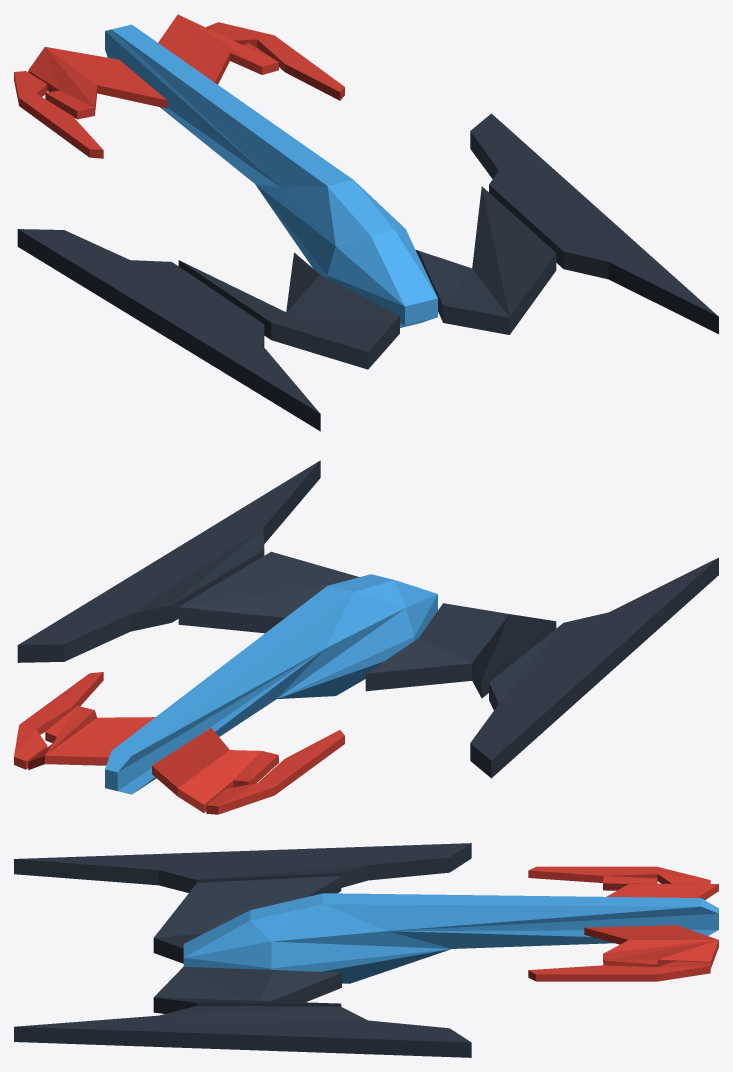
Rendered from nave_zeral.obj.
3 views of the same model, one above another, from view 1: azimuth 30°, elevation 25°; view 2: azimuth 150°, elevation 25°; view 3: azimuth 270°, elevation 25° (orthographic). The views are drawn at different scales.
Parts seen in each view (by area): view 1: engines, body, weapopns; view 2: engines, body, weapopns; view 3: engines, body, weapopns.
Boxes of the visible parts, box(x1,y1,x2,y2) form: engines: box(17, 113, 718, 431); body: box(105, 24, 437, 327); weapopns: box(14, 14, 344, 158); engines: box(17, 460, 718, 778); body: box(105, 574, 437, 794); weapopns: box(14, 672, 344, 814); engines: box(14, 843, 471, 1057); body: box(183, 893, 718, 983); weapopns: box(528, 866, 718, 981).
Bounding box in the file's own units: 1.63 × 0.321 × 2.44.
